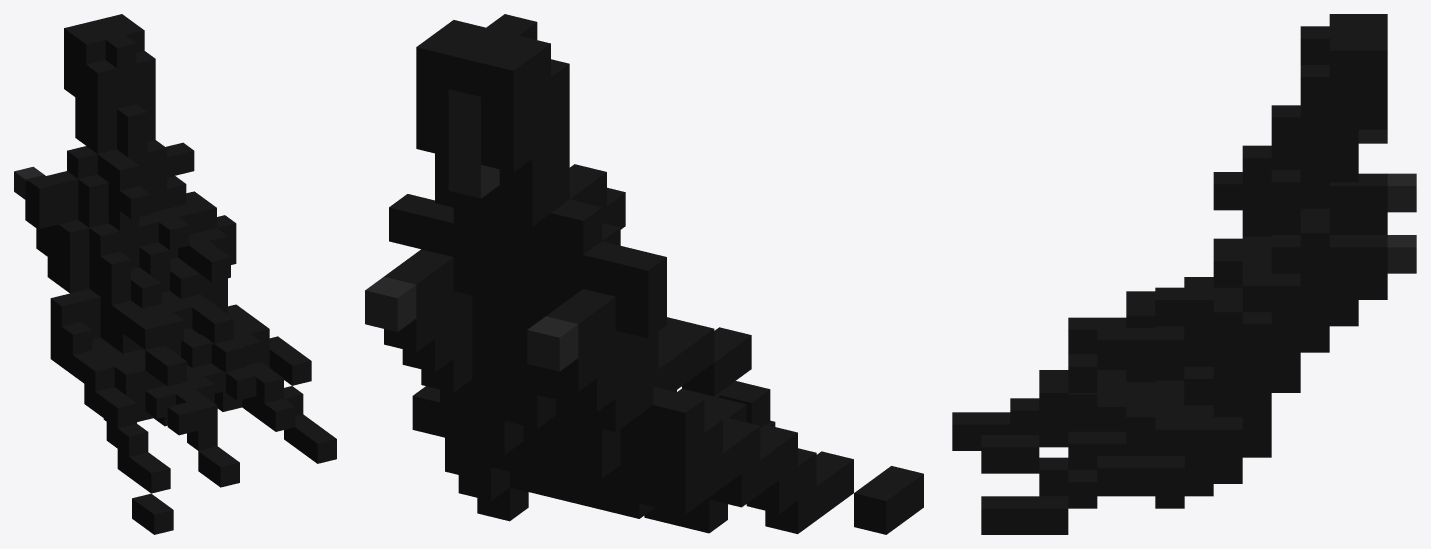
Rendered from Detraqueur.vox.obj.
The picture shows the model from 3 angles, left to right: view 1: azimuth 30°, elevation 25°; view 2: azimuth 150°, elevation 25°; view 3: azimuth 270°, elevation 25°; orthographic projection. The views are drawn at different scales.
Bounding box in the file's own units: 1.1 × 1.8 × 1.6.
Materials: 1 (1 with a texture image).
